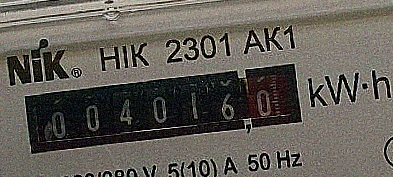0: (148, 91, 172, 128), (47, 106, 71, 141), (81, 100, 104, 136), (252, 85, 275, 119)
1: (185, 87, 204, 122)
4: (115, 94, 136, 129)
6: (216, 88, 238, 122)
screen: (16, 56, 311, 162)
